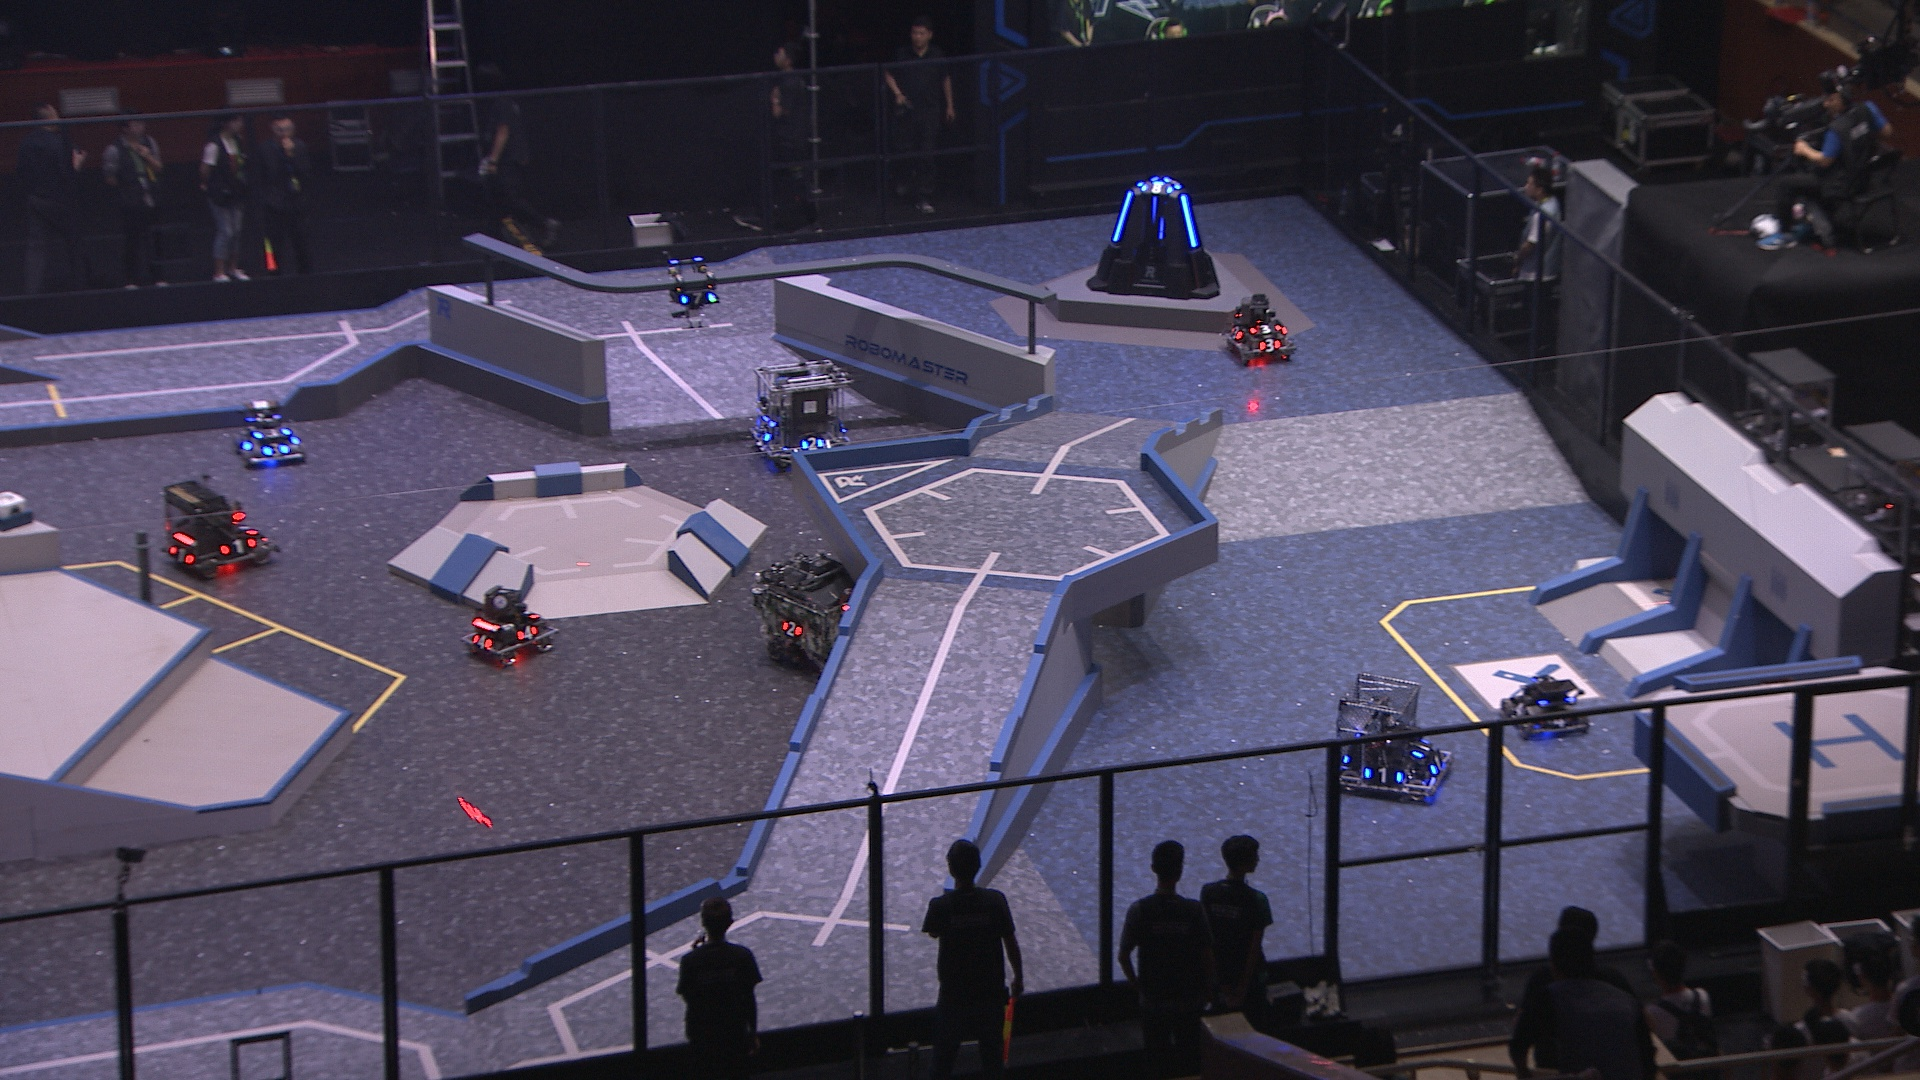armor: (1112, 190, 1134, 245), (1179, 193, 1199, 249), (1365, 765, 1404, 785), (218, 541, 256, 559), (680, 290, 717, 309), (1141, 181, 1174, 199), (167, 546, 196, 566), (256, 425, 287, 440), (1429, 752, 1447, 779), (756, 422, 775, 446), (469, 636, 493, 655), (802, 436, 828, 454), (781, 618, 803, 638), (235, 522, 257, 541), (517, 624, 539, 642), (1247, 322, 1280, 334), (1257, 338, 1280, 353), (262, 442, 286, 458), (1547, 709, 1567, 728), (1149, 199, 1162, 225), (1226, 322, 1242, 343), (1414, 738, 1429, 760), (1513, 699, 1524, 721)
base: (1084, 177, 1224, 301)
car: (750, 550, 870, 679), (1329, 674, 1447, 806), (160, 479, 280, 583), (746, 357, 852, 472), (460, 588, 555, 666), (1501, 673, 1593, 745), (1220, 294, 1298, 367), (237, 405, 310, 467)
watcher: (666, 255, 723, 319)
